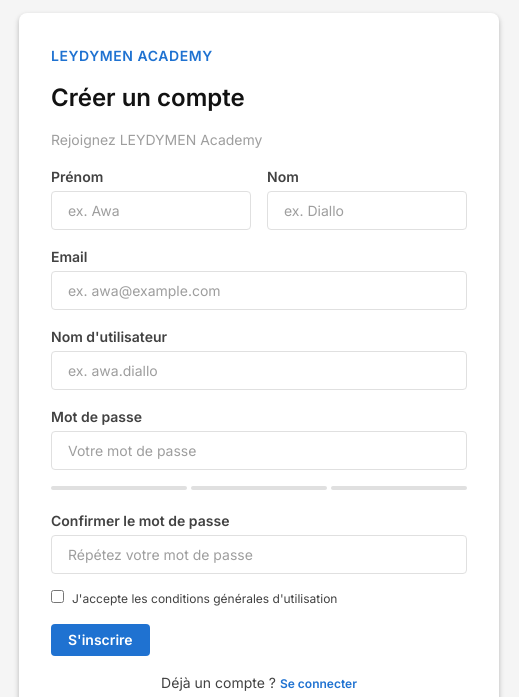
Test: RegisterComponent › should display the server error and field errors on 409
The width and height of the screenshot is (519, 697).
Type "Awa" into the field labelled "Prénom".
click(151, 211); type("Awa")  # box [51, 191, 251, 230]
Type "Diallo" into the field labelled "Nom".
click(367, 211); type("Diallo")  # box [267, 191, 467, 230]
Type "awa@example.com" into the field labelled "Email".
click(259, 291); type("awa@example.com")  # box [51, 271, 467, 310]
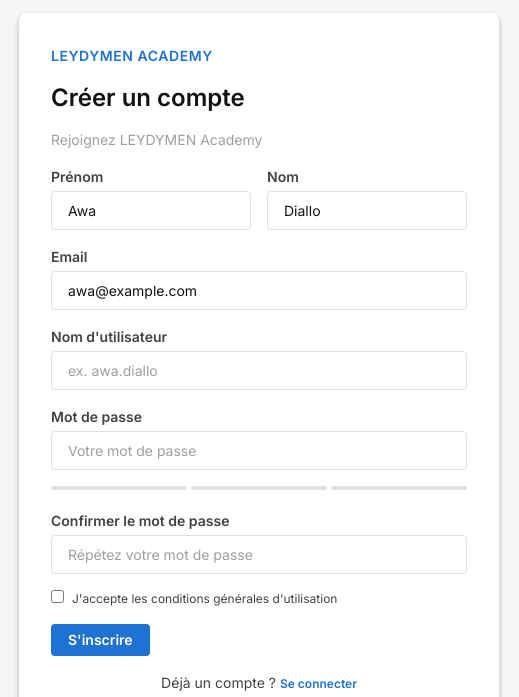
Type "awa.diallo" into the field labelled "Nom d'utilisateur".
click(259, 371); type("awa.diallo")  # box [51, 351, 467, 390]
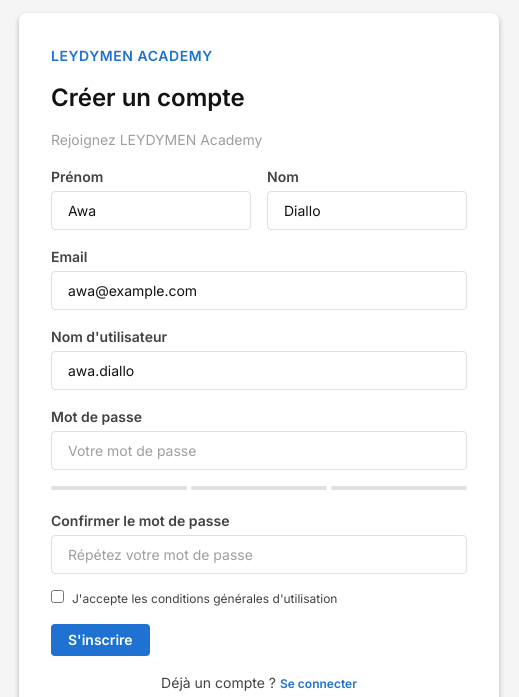
Type "Password1!" into the password field labelled "Mot de passe".
click(259, 451); type("Password1!")  # box [51, 431, 467, 470]
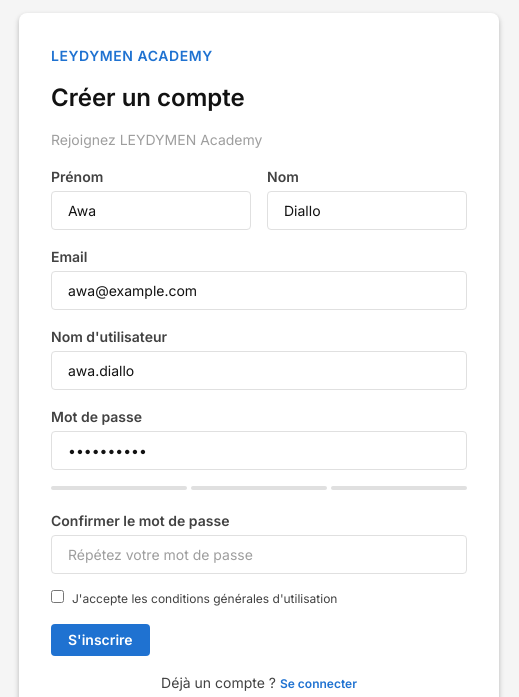
Type "Password1!" into the password field labelled "Confirmer le mot de passe".
click(259, 555); type("Password1!")  # box [51, 535, 467, 574]
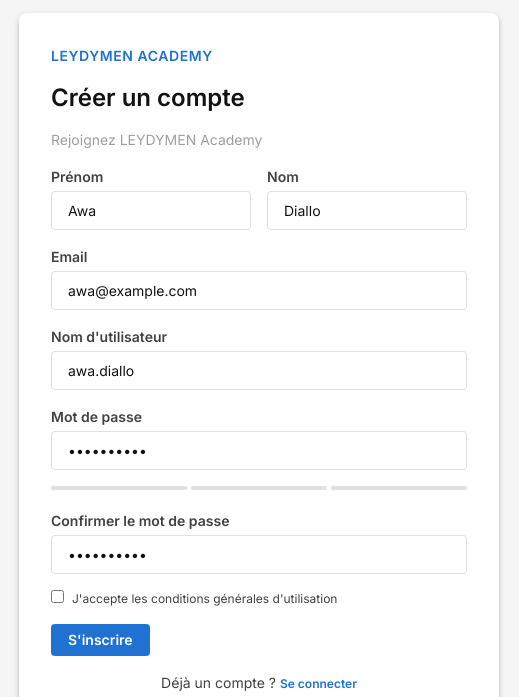
Click the checkbox labelled "J'accepte les conditions générales d'utilisation".
click(58, 597)  # box [51, 590, 64, 603]
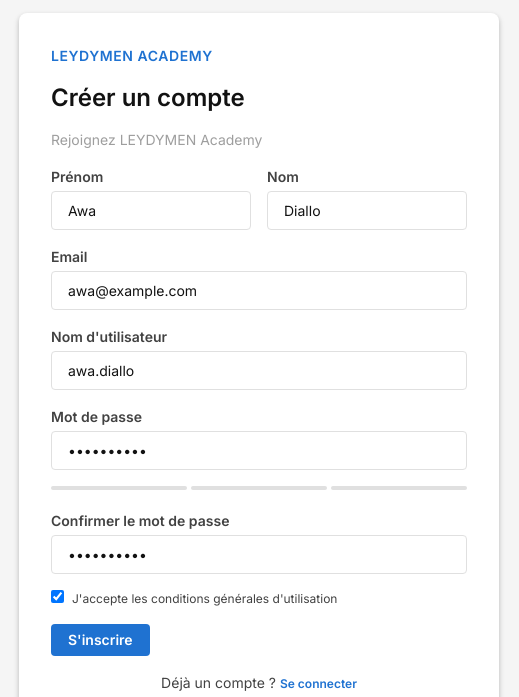
Click the button "S'inscrire".
click(100, 640)  # box [51, 624, 150, 656]
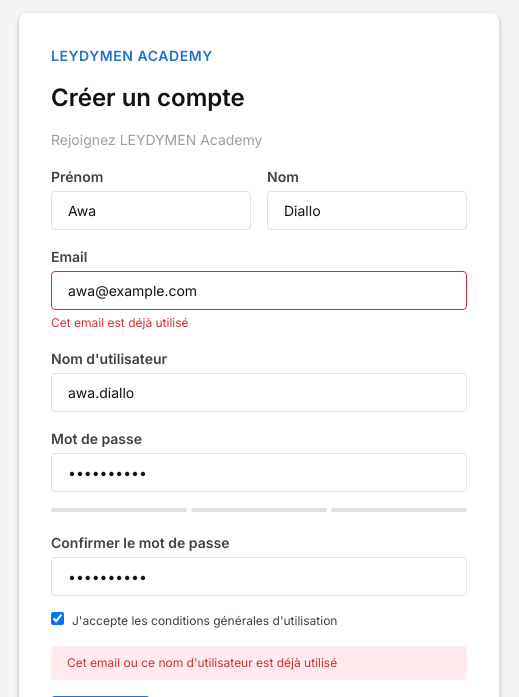
expect the text "Cet email est déjà utilisé" is shown: met, box [51, 315, 189, 330]
